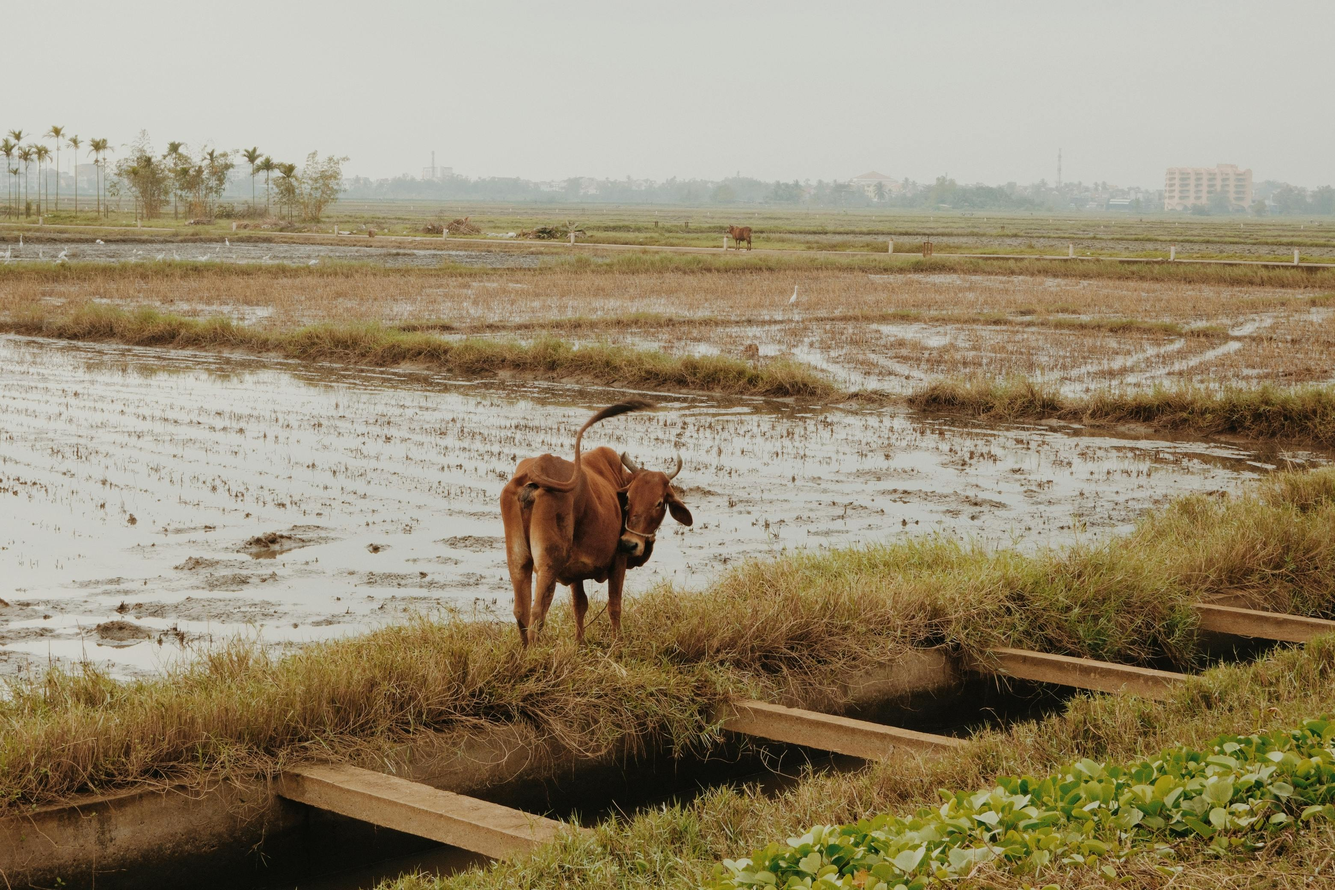bovino: (499, 442, 692, 646)
